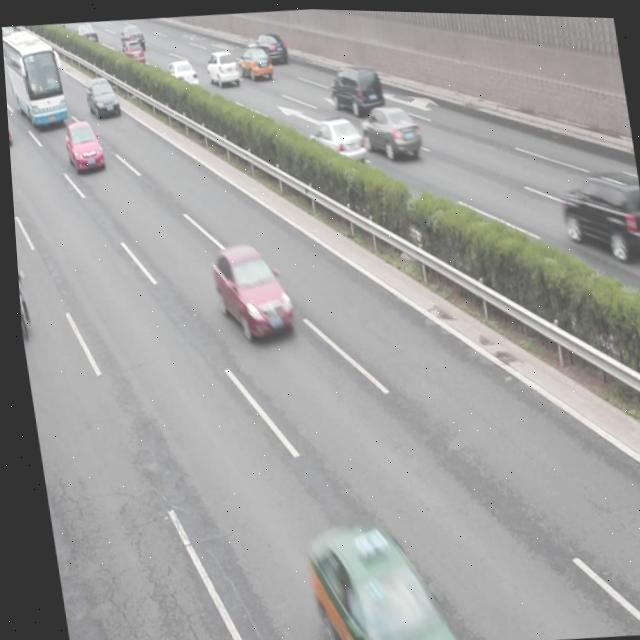car: (295, 519, 451, 640), (204, 236, 293, 343), (556, 161, 640, 265), (355, 100, 420, 163), (305, 113, 366, 164), (60, 116, 105, 174), (81, 76, 119, 119), (234, 38, 272, 80), (161, 56, 198, 93), (203, 49, 239, 87), (252, 28, 286, 63), (118, 23, 145, 51), (120, 35, 145, 65), (74, 20, 99, 47)
truck: (325, 59, 383, 116)
van: (1, 22, 68, 129)
